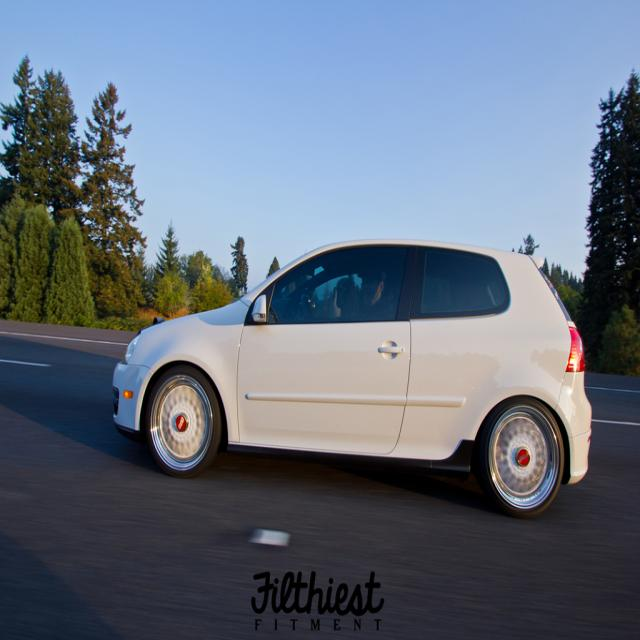car: (113, 236, 591, 516)
